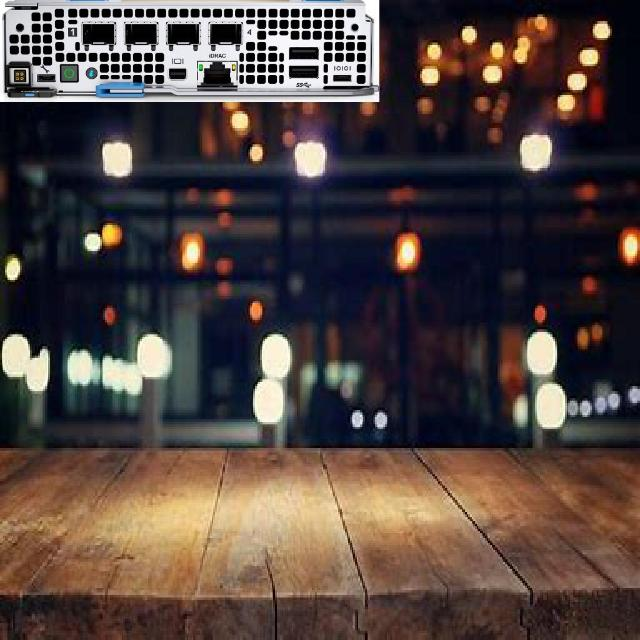Server: (0, 0, 378, 101)
